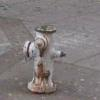a fire hydrant: (21, 20, 66, 95)
